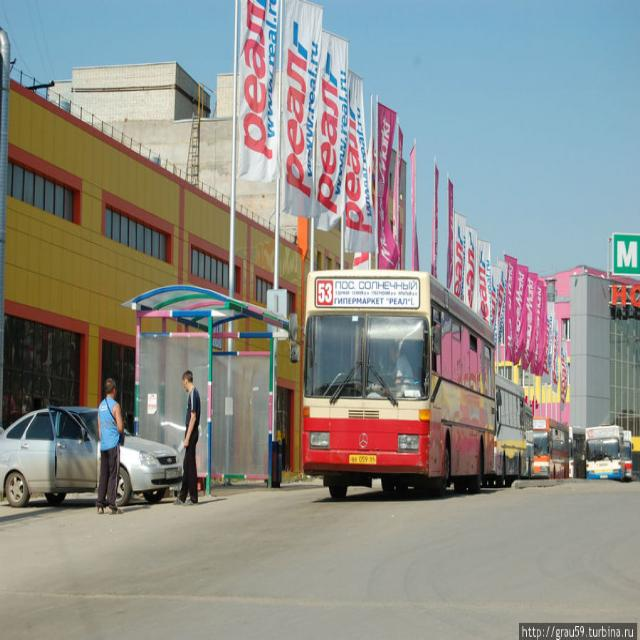number-of-bus: (318, 282, 334, 306)
